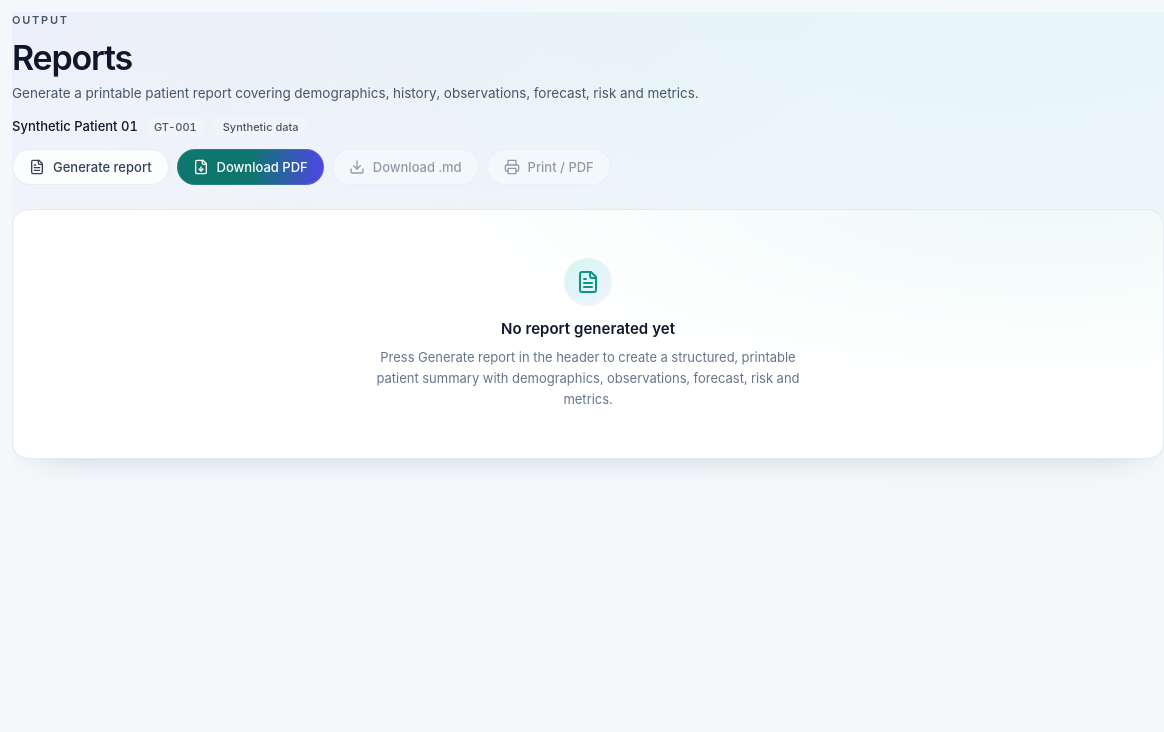
Reports › surfaces an API error instead of a stale report
Click the button "Generate report": (90, 167) [12,149,169,185]
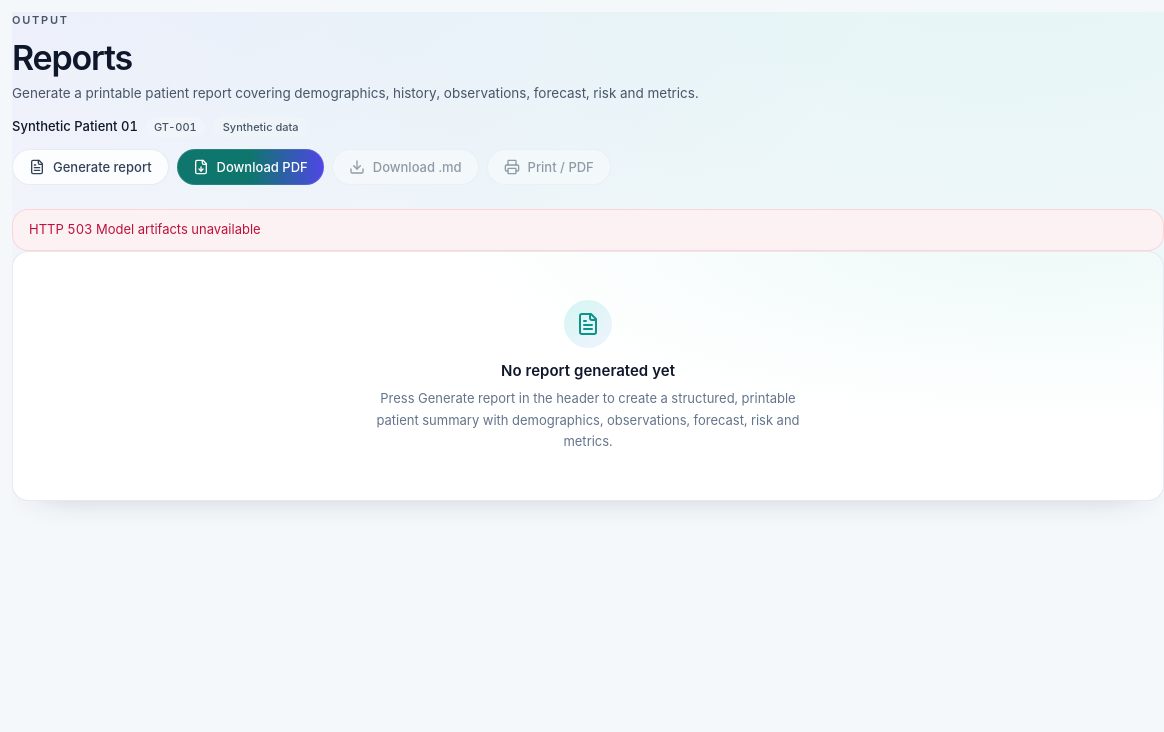
Now the text "HTTP 503 Model artifacts unavailable" is shown, box [29,220,261,240]
